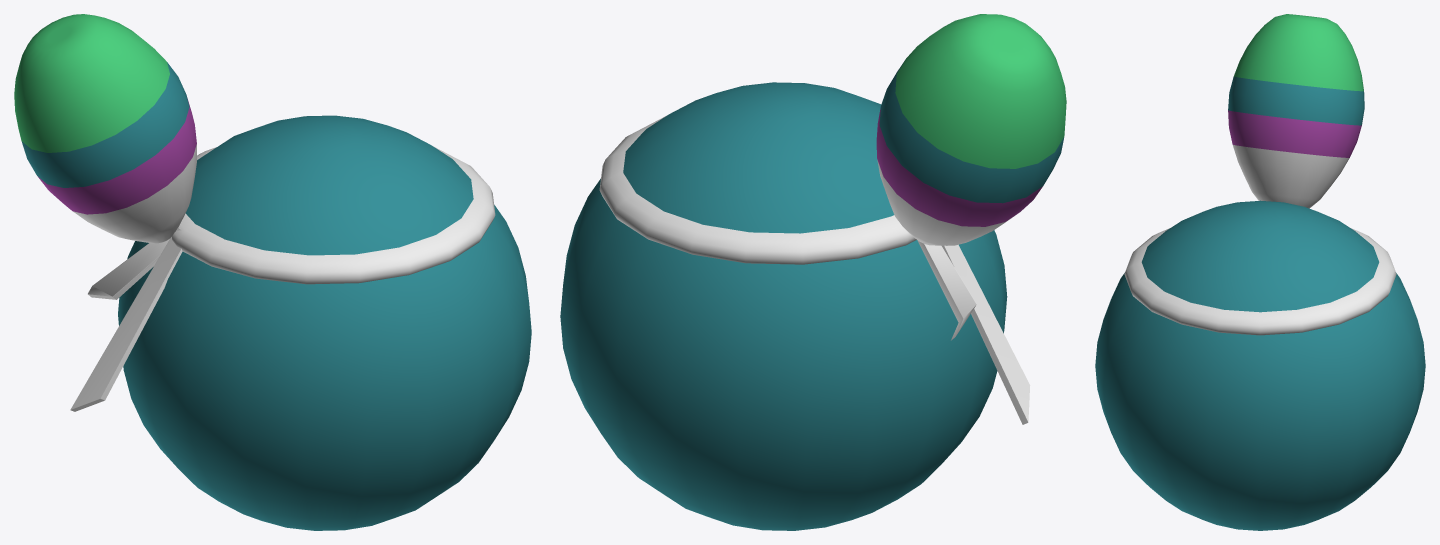
File: bolitas42.fbx
3 renders of one model, left to right at view 1: azimuth 30°, elevation 25°; view 2: azimuth 150°, elevation 25°; view 3: azimuth 270°, elevation 25°, orthographic. The views are drawn at different scales.
Visible parts, largest first — view 1: pasted__pSphere1.001, pSphere3, pasted__pTorus1.001, pCube2, pasted__pCube2; view 2: pasted__pSphere1.001, pSphere3, pasted__pTorus1.001, pCube2, pasted__pCube2; view 3: pasted__pSphere1.001, pSphere3, pasted__pTorus1.001.
Part boxes in pixels (left/top/right/bottom): pasted__pSphere1.001: left=118, top=115, right=531, bottom=530; pSphere3: left=14, top=14, right=196, bottom=243; pasted__pTorus1.001: left=172, top=146, right=495, bottom=284; pCube2: left=70, top=227, right=182, bottom=411; pasted__pCube2: left=88, top=239, right=169, bottom=299; pasted__pSphere1.001: left=560, top=82, right=1007, bottom=530; pSphere3: left=876, top=14, right=1066, bottom=245; pasted__pTorus1.001: left=599, top=116, right=916, bottom=264; pCube2: left=941, top=244, right=1030, bottom=424; pasted__pCube2: left=917, top=240, right=976, bottom=340; pasted__pSphere1.001: left=1095, top=200, right=1425, bottom=530; pSphere3: left=1228, top=14, right=1364, bottom=208; pasted__pTorus1.001: left=1124, top=228, right=1396, bottom=335.
Bounding box in the file's own units: 253 × 278 × 200.
